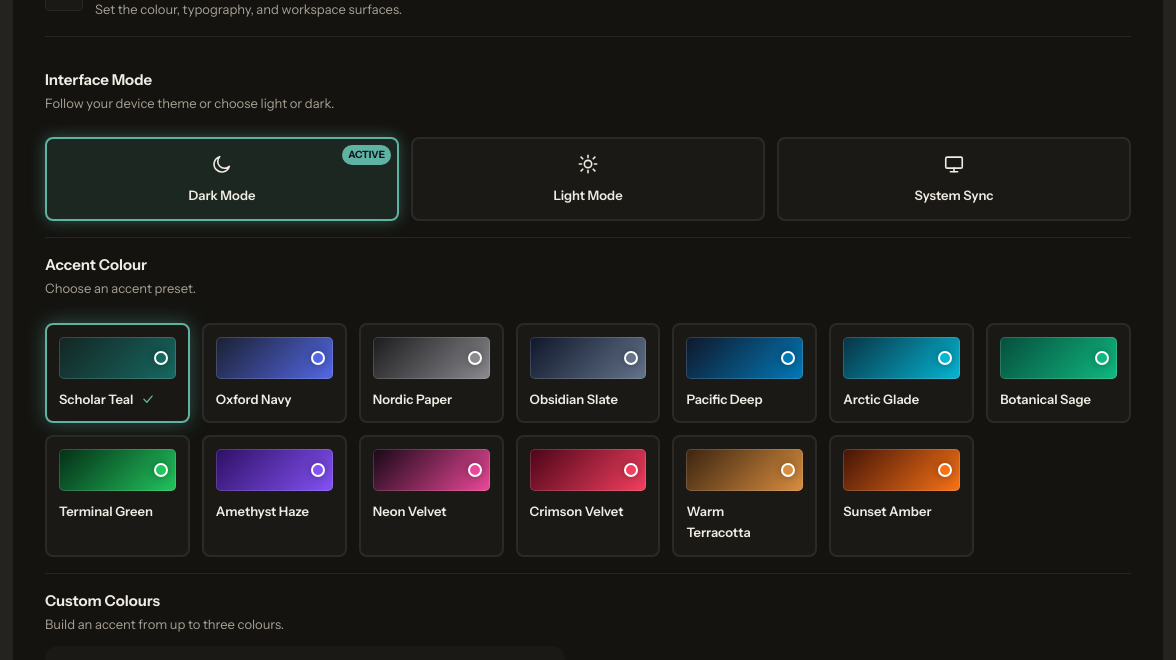
AppearanceTab › does not persist a change until Save Appearance is pressed
Click the button "Pacific Deep": (745, 373) x1=672 y1=323 x2=817 y2=423
(page scrolled)
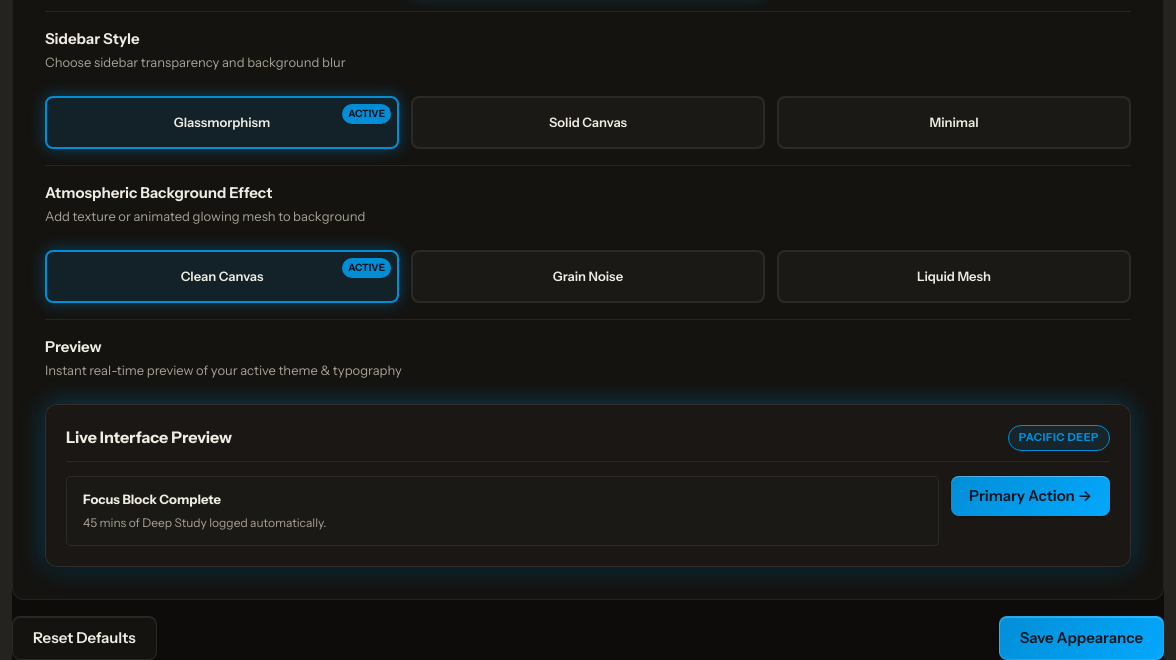
Click the button "Save Appearance": (1081, 638) x1=999 y1=616 x2=1164 y2=659
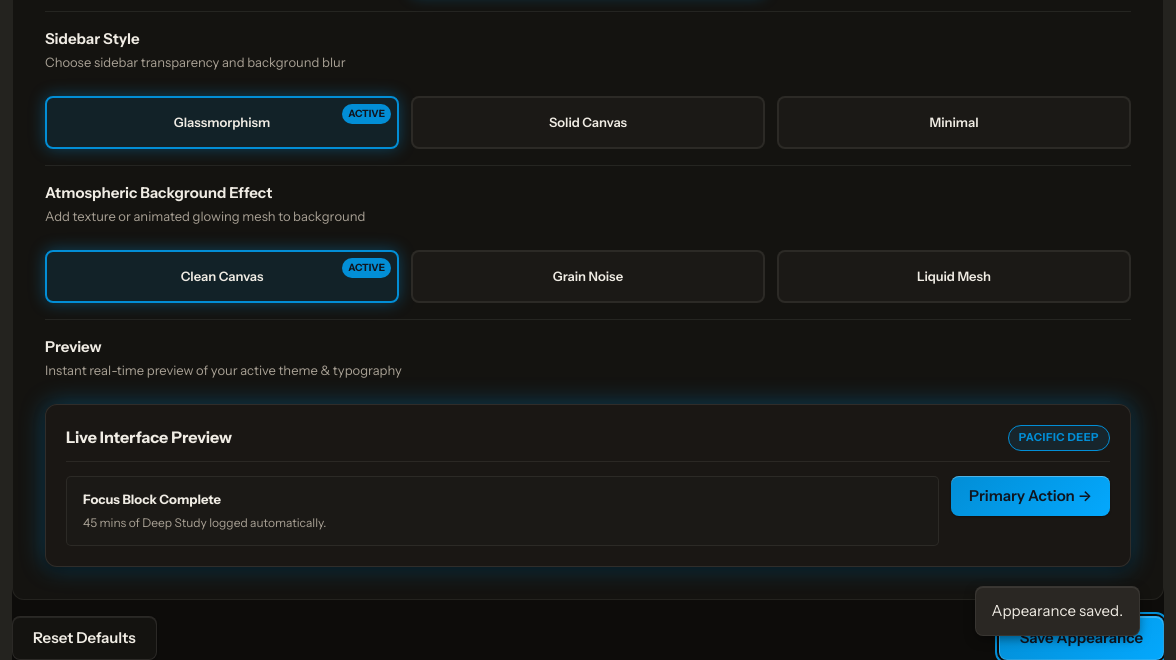
Expected: the text "Appearance saved." is shown, x1=992 y1=599 x2=1123 y2=623
